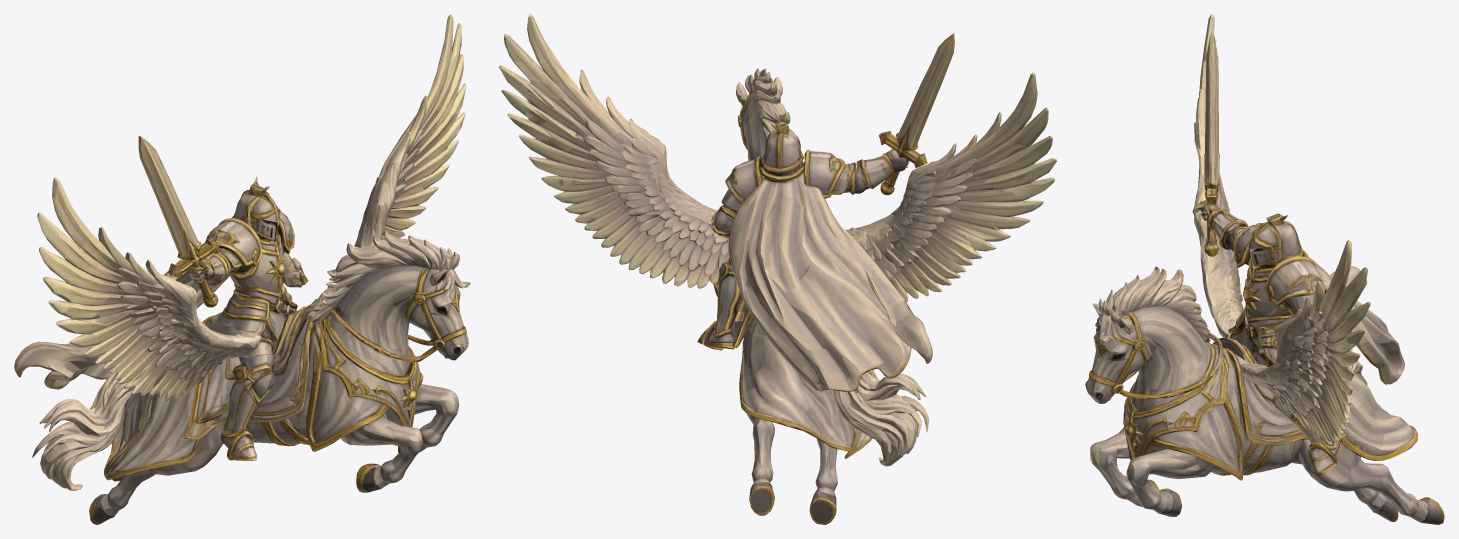
Rendered from dawn_paladin_white.glb.
3 renders of one model, left to right at view 1: azimuth 30°, elevation 25°; view 2: azimuth 150°, elevation 25°; view 3: azimuth 270°, elevation 25°, orthographic. The views are drawn at different scales.
Bounding box in the file's own units: 1.9 × 1.67 × 1.18.
1 material, 1 textured.
